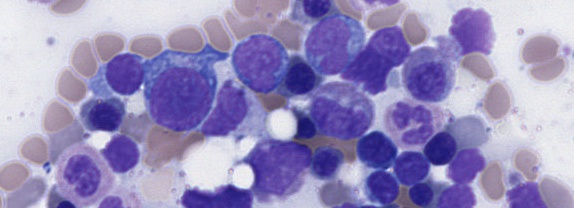objectness: (205, 81, 255, 131), (59, 141, 109, 191), (390, 86, 440, 136), (400, 52, 450, 102), (316, 90, 366, 140), (238, 37, 288, 87), (310, 15, 360, 65), (443, 144, 493, 194), (449, 0, 499, 50), (367, 19, 417, 69), (280, 101, 330, 151), (100, 48, 150, 98), (96, 125, 146, 175), (260, 139, 310, 189), (340, 50, 390, 100), (413, 123, 463, 173), (205, 82, 255, 132), (349, 126, 399, 176), (385, 143, 435, 193), (302, 139, 352, 189), (78, 90, 128, 140), (274, 54, 324, 104), (359, 163, 409, 208), (503, 170, 553, 208), (396, 170, 446, 208), (202, 172, 252, 208), (430, 173, 480, 208), (173, 174, 223, 208), (290, 0, 340, 32)
